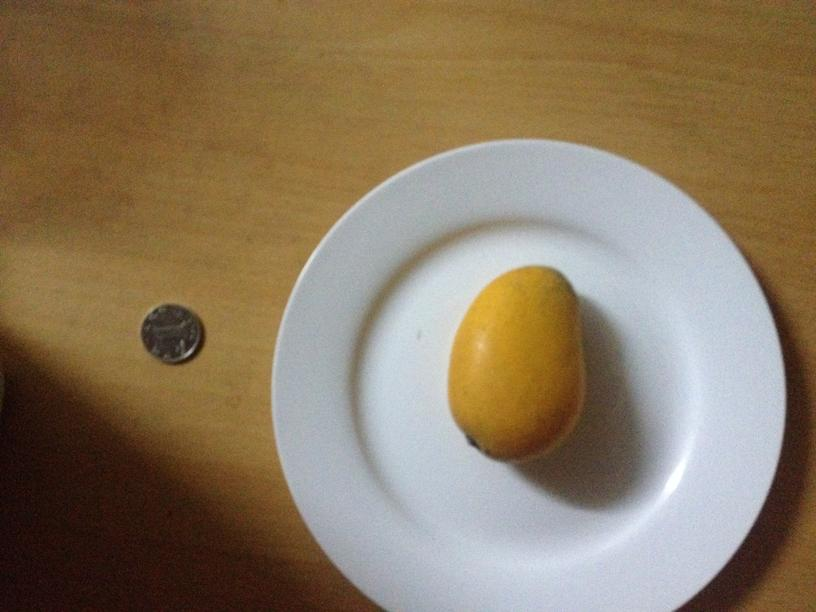coin: (140, 301, 205, 365)
mango: (449, 264, 589, 460)
